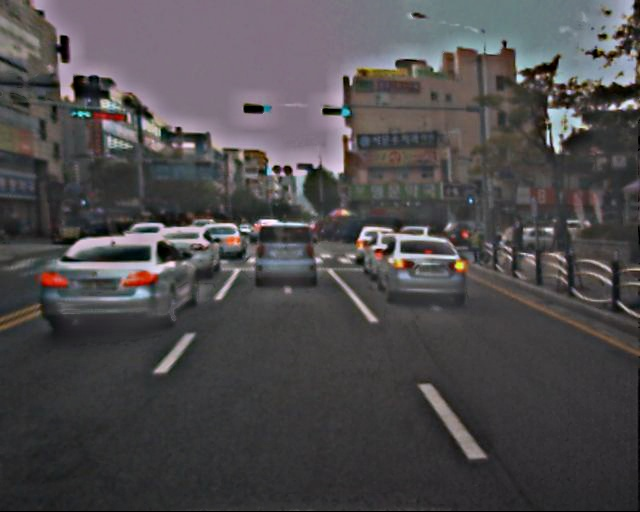person: (469, 228, 485, 266), (511, 216, 526, 253), (551, 217, 566, 253)
